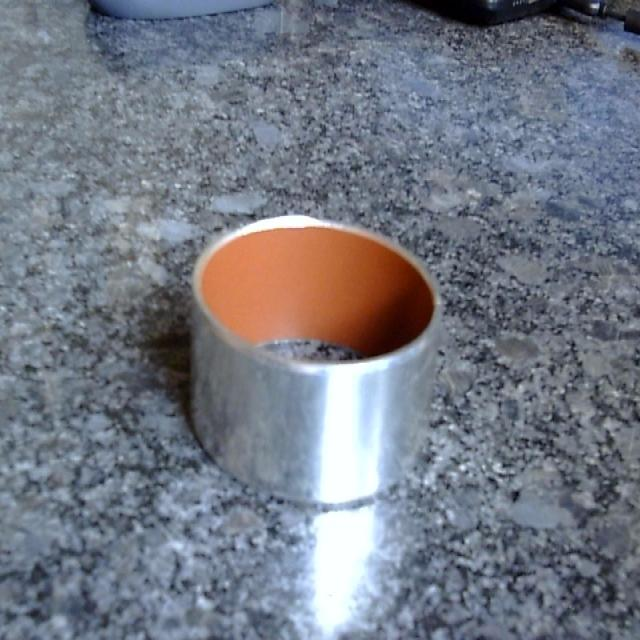steel-ring: (192, 217, 440, 505)
